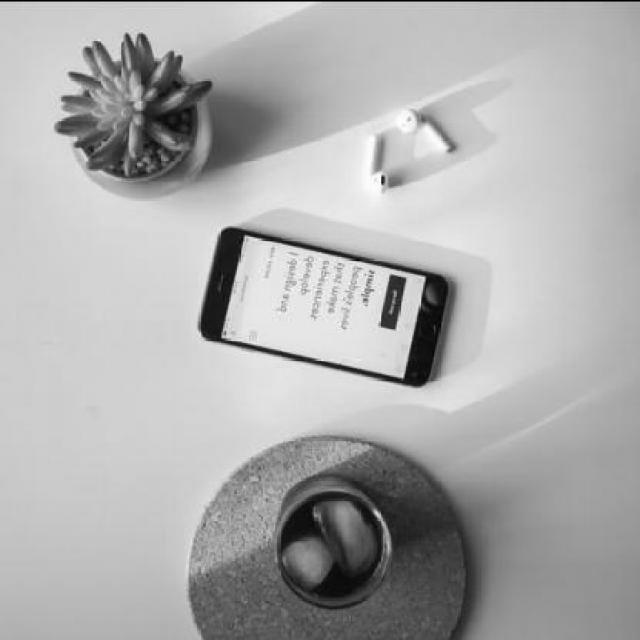fake: (200, 221, 452, 387)
